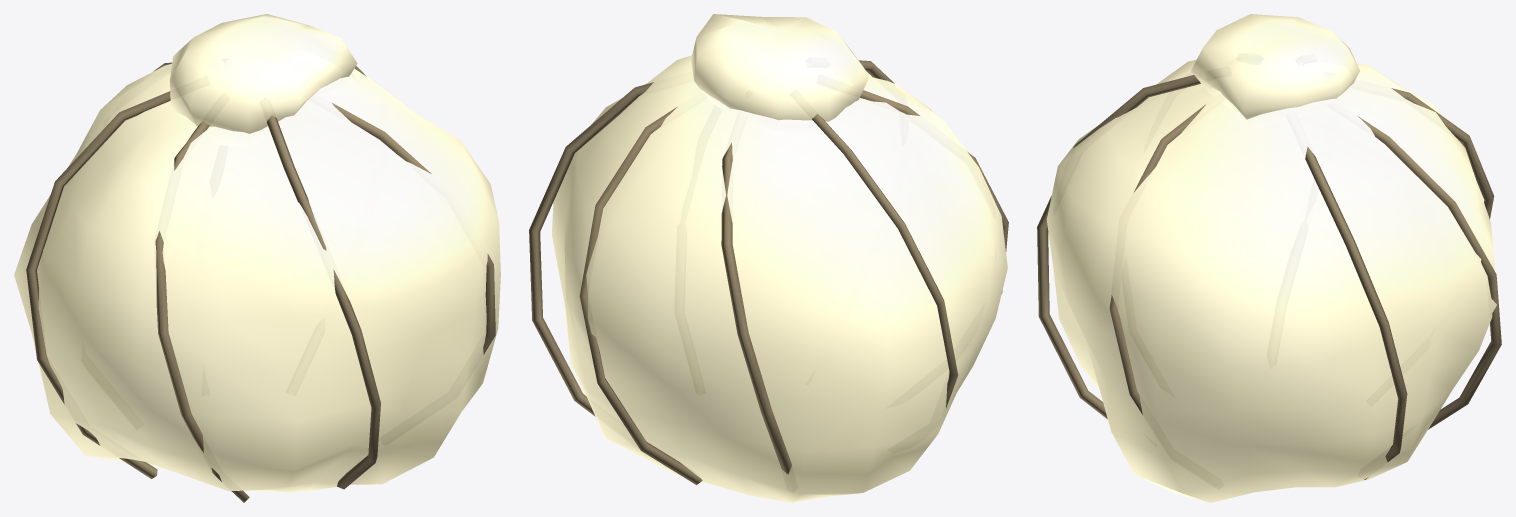
Rendered from egg_sac.glb.
3 views of the same model, side by side, from view 1: azimuth 30°, elevation 25°; view 2: azimuth 150°, elevation 25°; view 3: azimuth 270°, elevation 25° (orthographic).
Parts seen in each view (by area): view 1: Sac; view 2: Sac; view 3: Sac.
Part boxes in pixels (x1,y1,x2,y2): Sac: (14,14,500,502); Sac: (529,14,1008,502); Sac: (1037,14,1501,502).
Size of the model in its own units: 1.01 by 1.02 by 0.9904.
